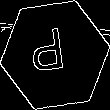P_S: (34, 27, 76, 83)
